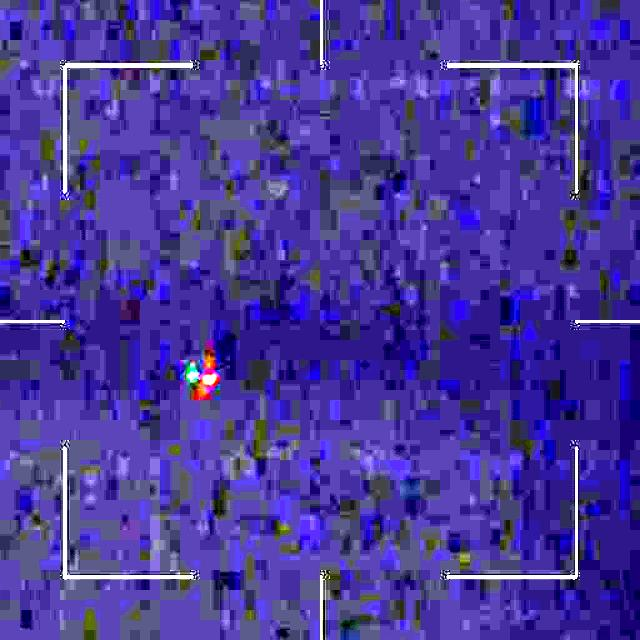bird: (186, 350, 218, 401)
